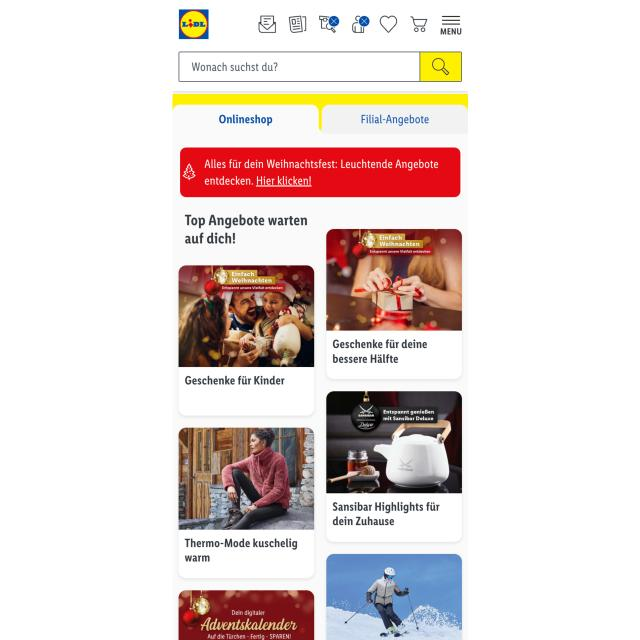CheckBox: (419, 50, 461, 82)
CheckedTextView: (178, 49, 462, 82)
Input field: (183, 535, 299, 563), (331, 498, 440, 527), (330, 336, 429, 365), (185, 371, 286, 389)
ProgressBar: (180, 146, 460, 197)
Spinner: (177, 425, 315, 579), (326, 391, 463, 543), (178, 264, 314, 416), (327, 229, 462, 381)
bag: (171, 0, 474, 92)
carousel: (428, 55, 453, 78), (255, 14, 278, 35), (318, 14, 339, 36), (350, 14, 370, 35), (286, 15, 308, 34), (408, 15, 429, 33), (378, 15, 398, 33), (439, 14, 464, 28)
copy: (178, 264, 314, 368), (178, 427, 314, 529), (326, 390, 462, 492), (326, 228, 461, 330)
date picker: (178, 8, 210, 41)
decoration: (250, 9, 471, 41), (438, 12, 467, 38)
footer: (188, 60, 280, 76)
icon: (172, 102, 468, 135)
image: (180, 209, 310, 250)
